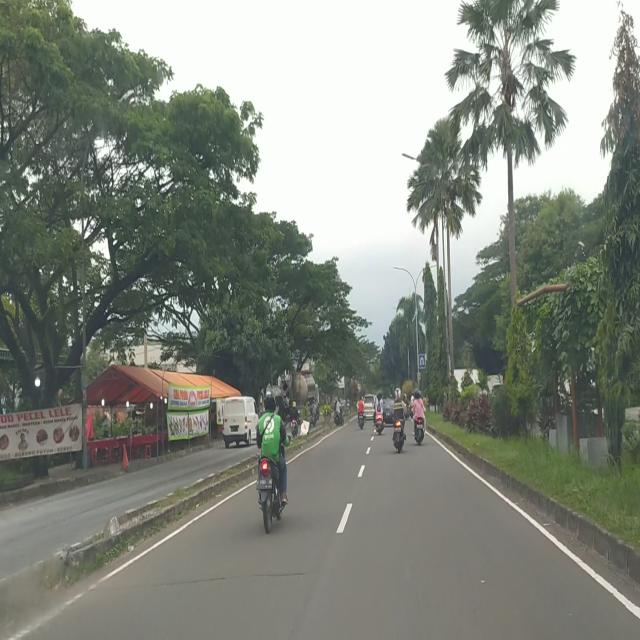Sewer Cover: (86, 574, 308, 592)
